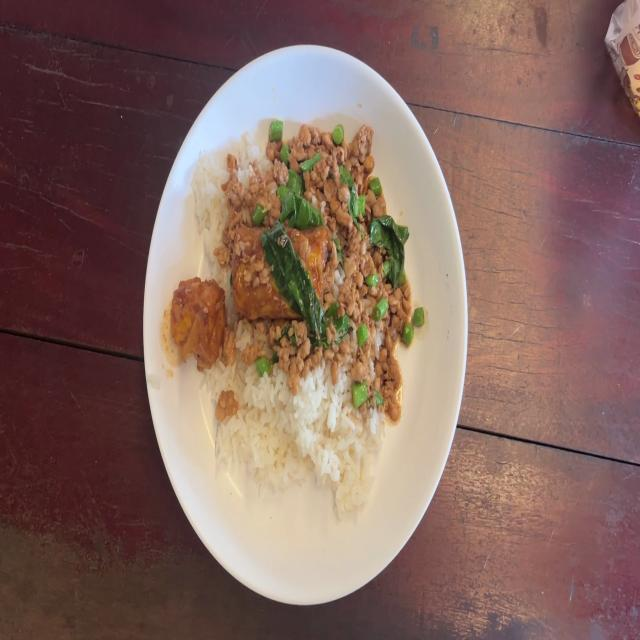01rice: (226, 375, 381, 498)
fried_tofo: (225, 227, 328, 315), (174, 281, 220, 362)
minced_pork: (235, 128, 389, 232), (329, 228, 406, 401)
stir_fried_basil: (168, 128, 425, 511)
